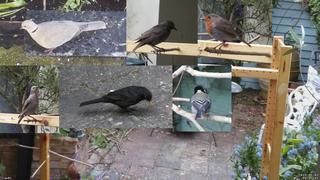blackbird: (79, 86, 152, 114)
collared dove: (20, 20, 106, 54)
great tit: (190, 86, 212, 121)
robin: (200, 13, 252, 56)
starling: (132, 20, 178, 54), (18, 86, 39, 124)
